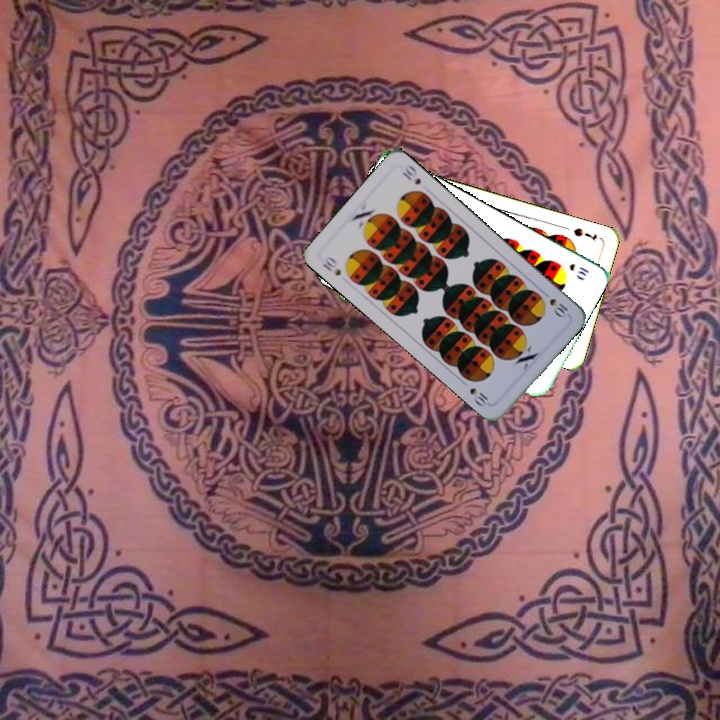S10: (545, 294, 571, 321), (318, 252, 343, 278), (565, 259, 591, 279)
S7: (569, 224, 600, 243)
